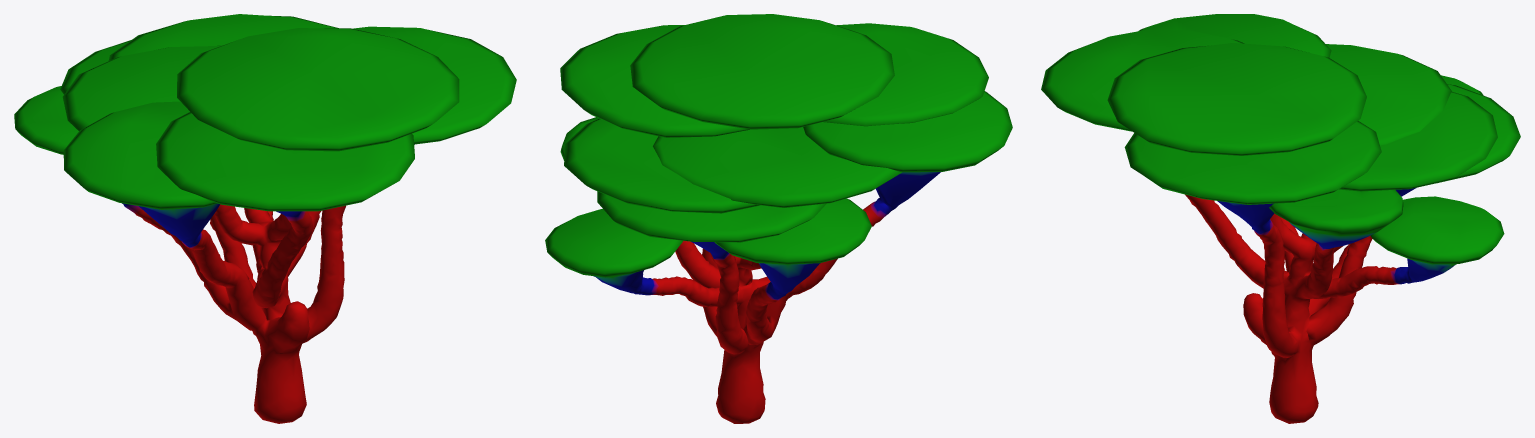
The model's file is TrumpetTree_var1.fbx.
3 renders of one model, left to right at view 1: azimuth 30°, elevation 25°; view 2: azimuth 150°, elevation 25°; view 3: azimuth 270°, elevation 25°, orthographic. The views are drawn at different scales.
Parts seen in each view (by area): view 1: Vert.019; view 2: Vert.019; view 3: Vert.019.
Part boxes in pixels (x1,y1,x2,y2): Vert.019: (14,14,516,423); Vert.019: (545,14,1012,423); Vert.019: (1041,14,1520,423).
Bounding box in the file's own units: 114 × 89.06 × 117.
